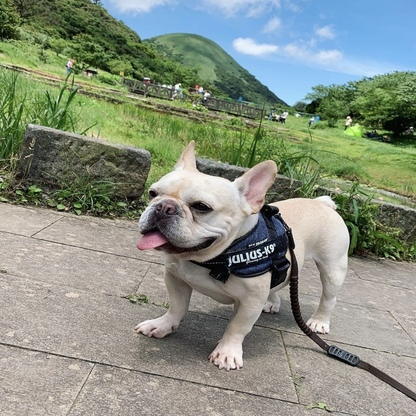bulldog: (133, 138, 352, 372)
